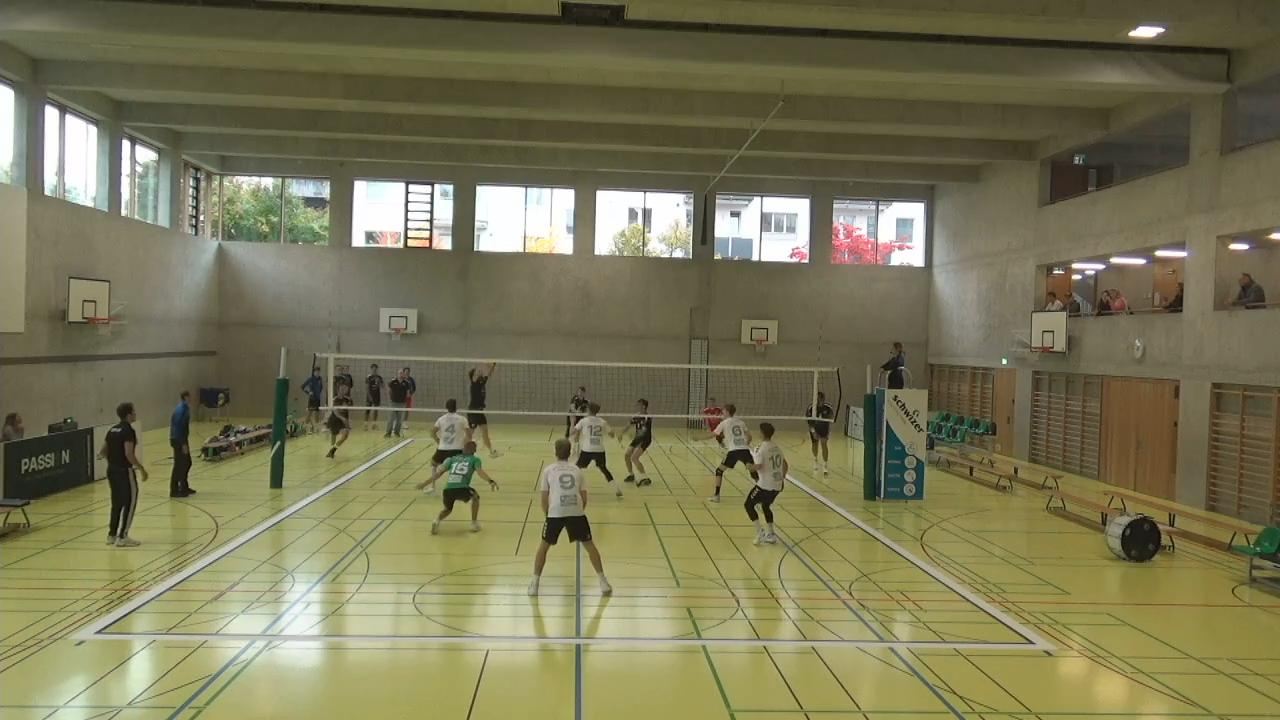Player: (527, 435, 613, 595), (430, 438, 498, 538), (742, 422, 786, 546), (576, 401, 632, 497), (415, 399, 465, 491), (711, 405, 756, 501), (806, 389, 836, 476), (624, 397, 653, 486), (324, 369, 352, 459), (564, 382, 592, 443), (696, 399, 726, 453)
Set: (464, 362, 493, 458)
ball: (487, 356, 498, 374)
